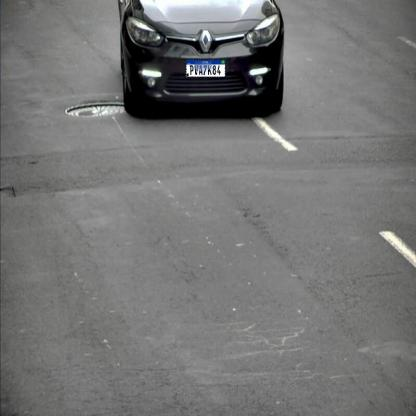PlacaM: (186, 59, 226, 78)
